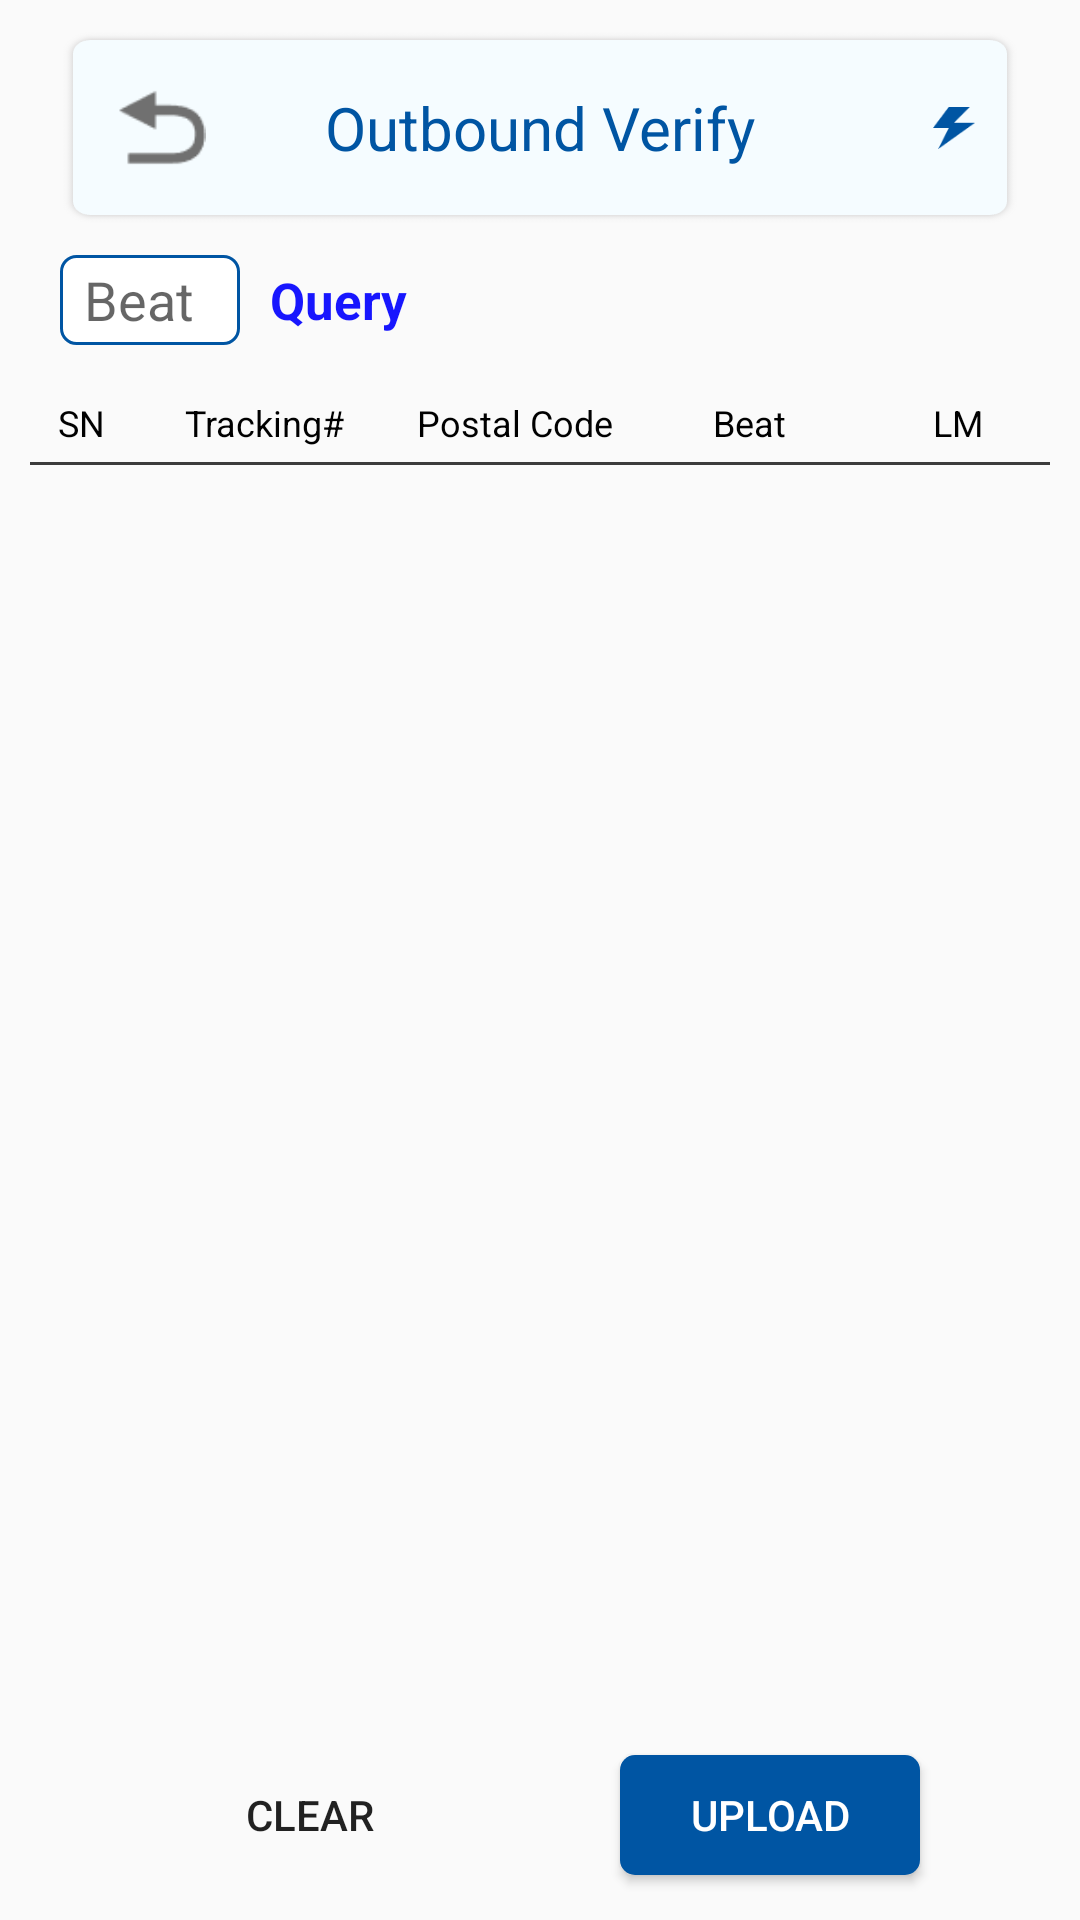

Icon click points for this 1080×1920 phone screenshot, format (x=x, y=y):
back: (x=162, y=127)
